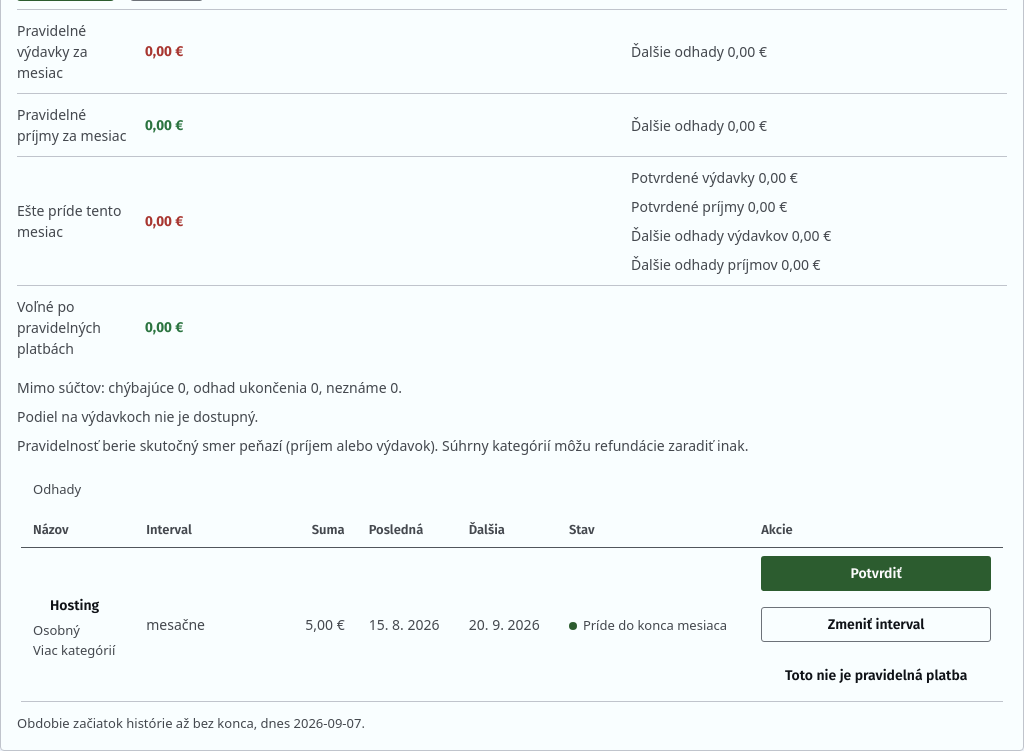
it: fix2 shows the cadence arrow after opening the editor from the recurring panel
(page scrolled)
What coordinates should you click on to do the following:
click the button with aria-label "Zmeniť interval Hosting"
I would click on:
 (876, 624)
Its box is [761,607,991,642].
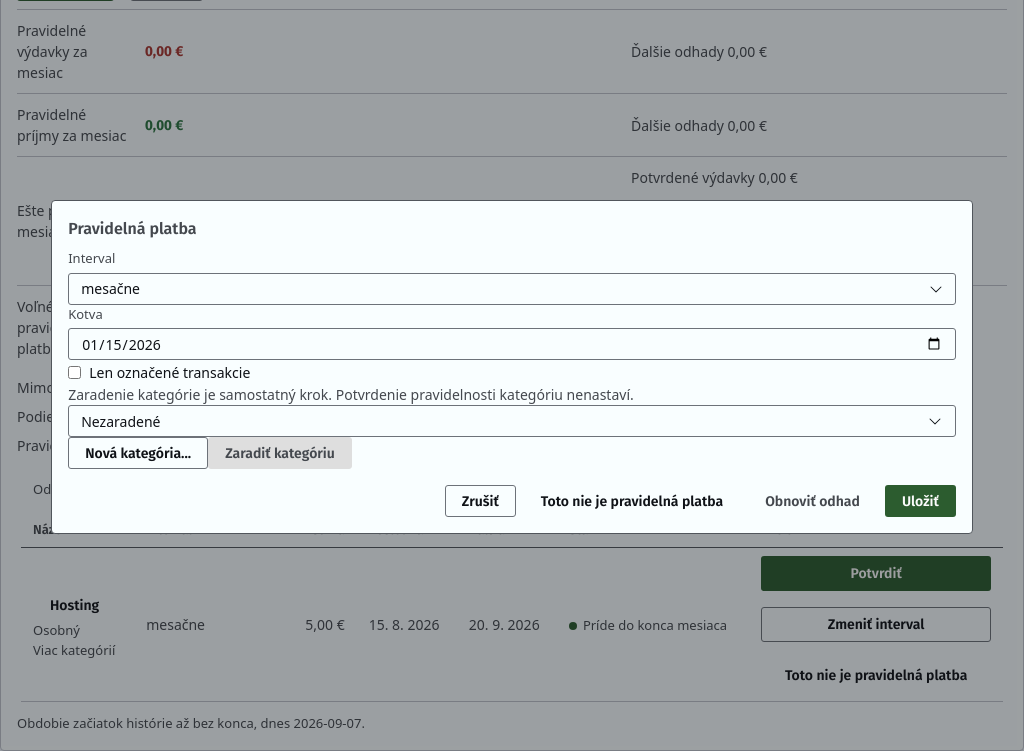
Expected: the dropdown labelled "Interval" is shown, [68,272,956,304]
